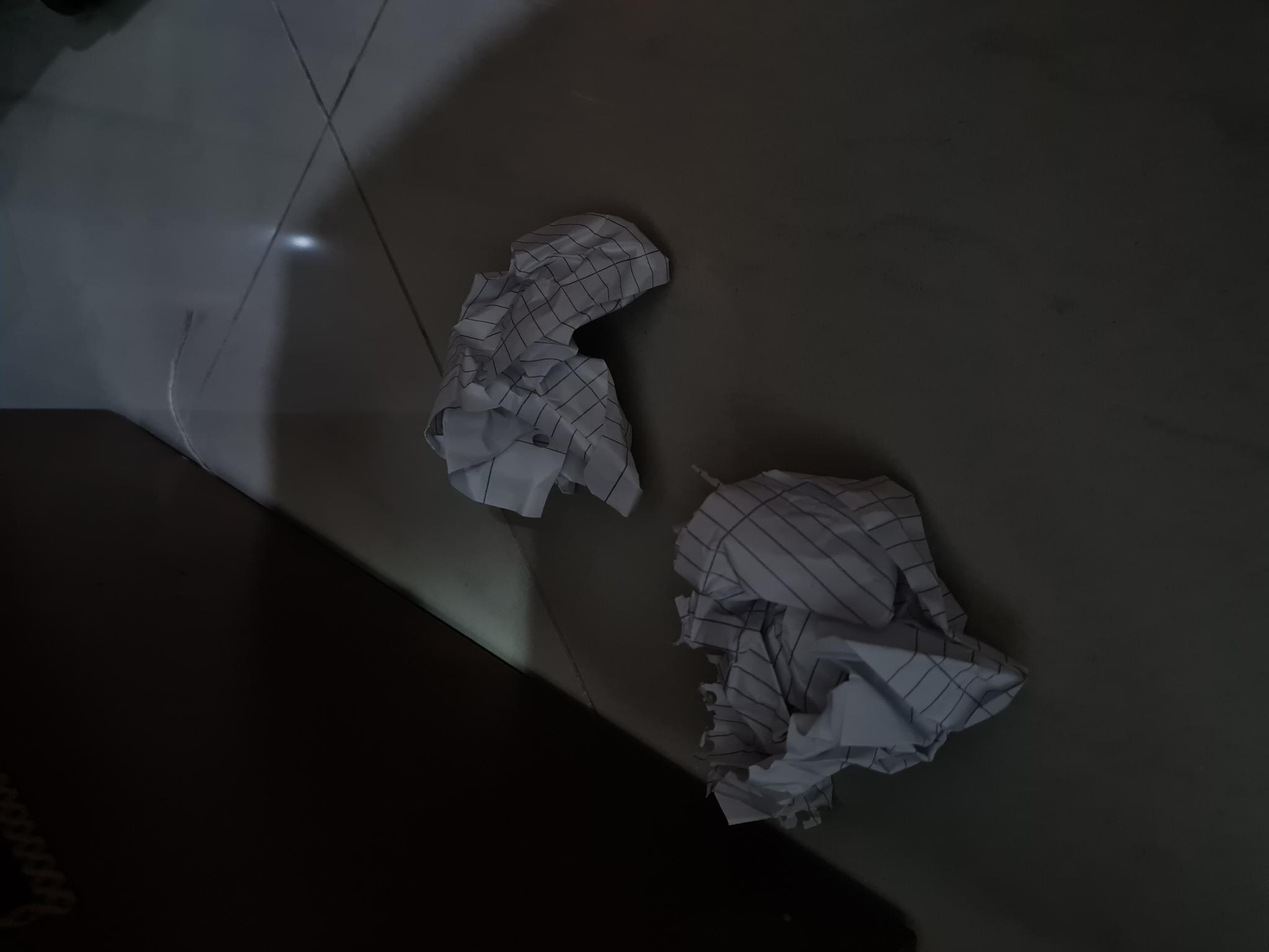Kertas: (120, 668, 480, 952), (436, 413, 743, 653)
